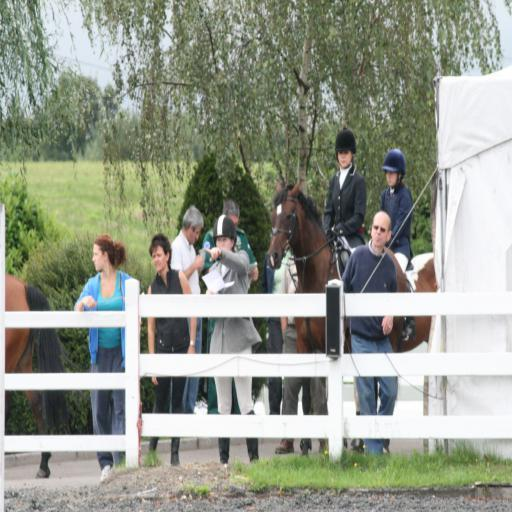horse: (266, 176, 436, 456), (4, 271, 70, 481)
